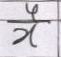ai_matra: (25, 3, 39, 20)
